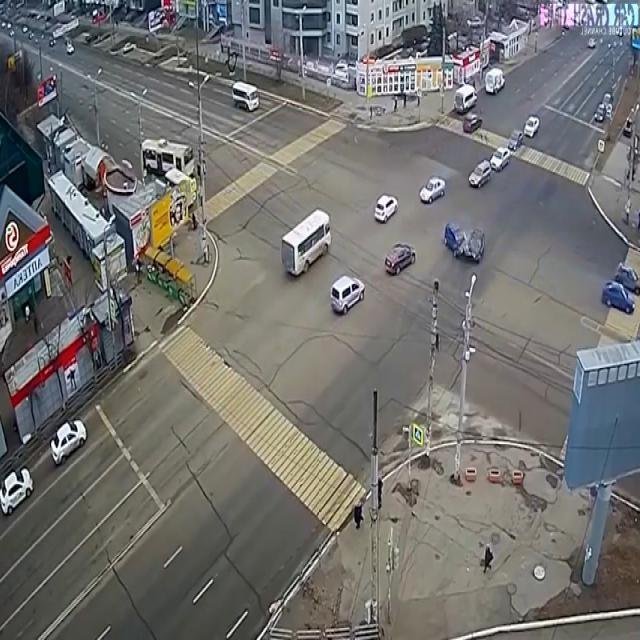multiple_accident: (436, 204, 506, 271)
normal: (451, 47, 556, 210), (243, 182, 353, 300), (317, 234, 420, 325)
